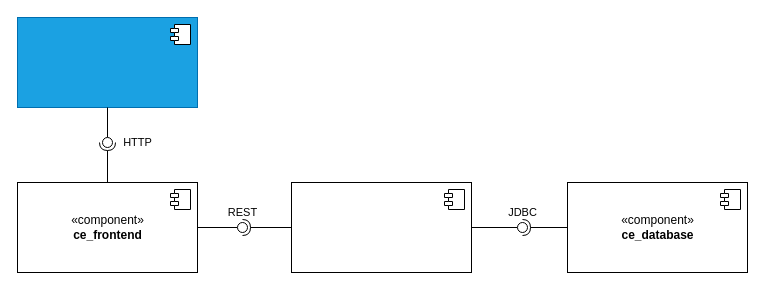
This 765x290 diagram has some shape labels left out. The centre of each missing label's shape, as x and y in pixels:
"«component» browser" belongs at [107,62].
"«component» ce_backend" belongs at [381,227].
